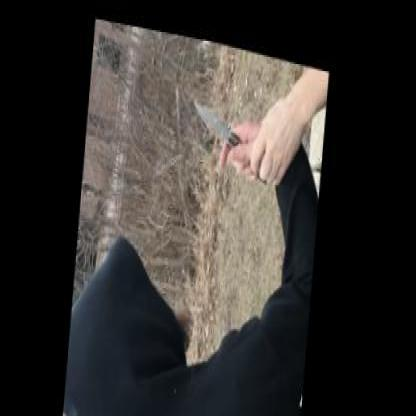knife: (186, 80, 264, 174)
